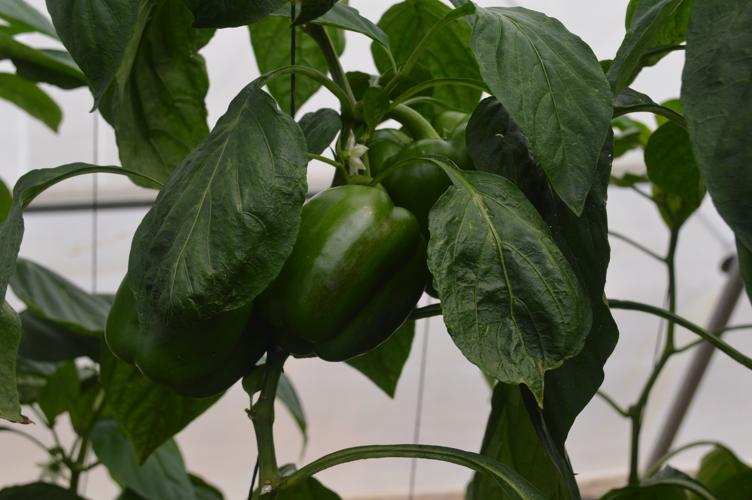BellPepper: (259, 185, 432, 359), (103, 273, 257, 397), (363, 109, 479, 221)
